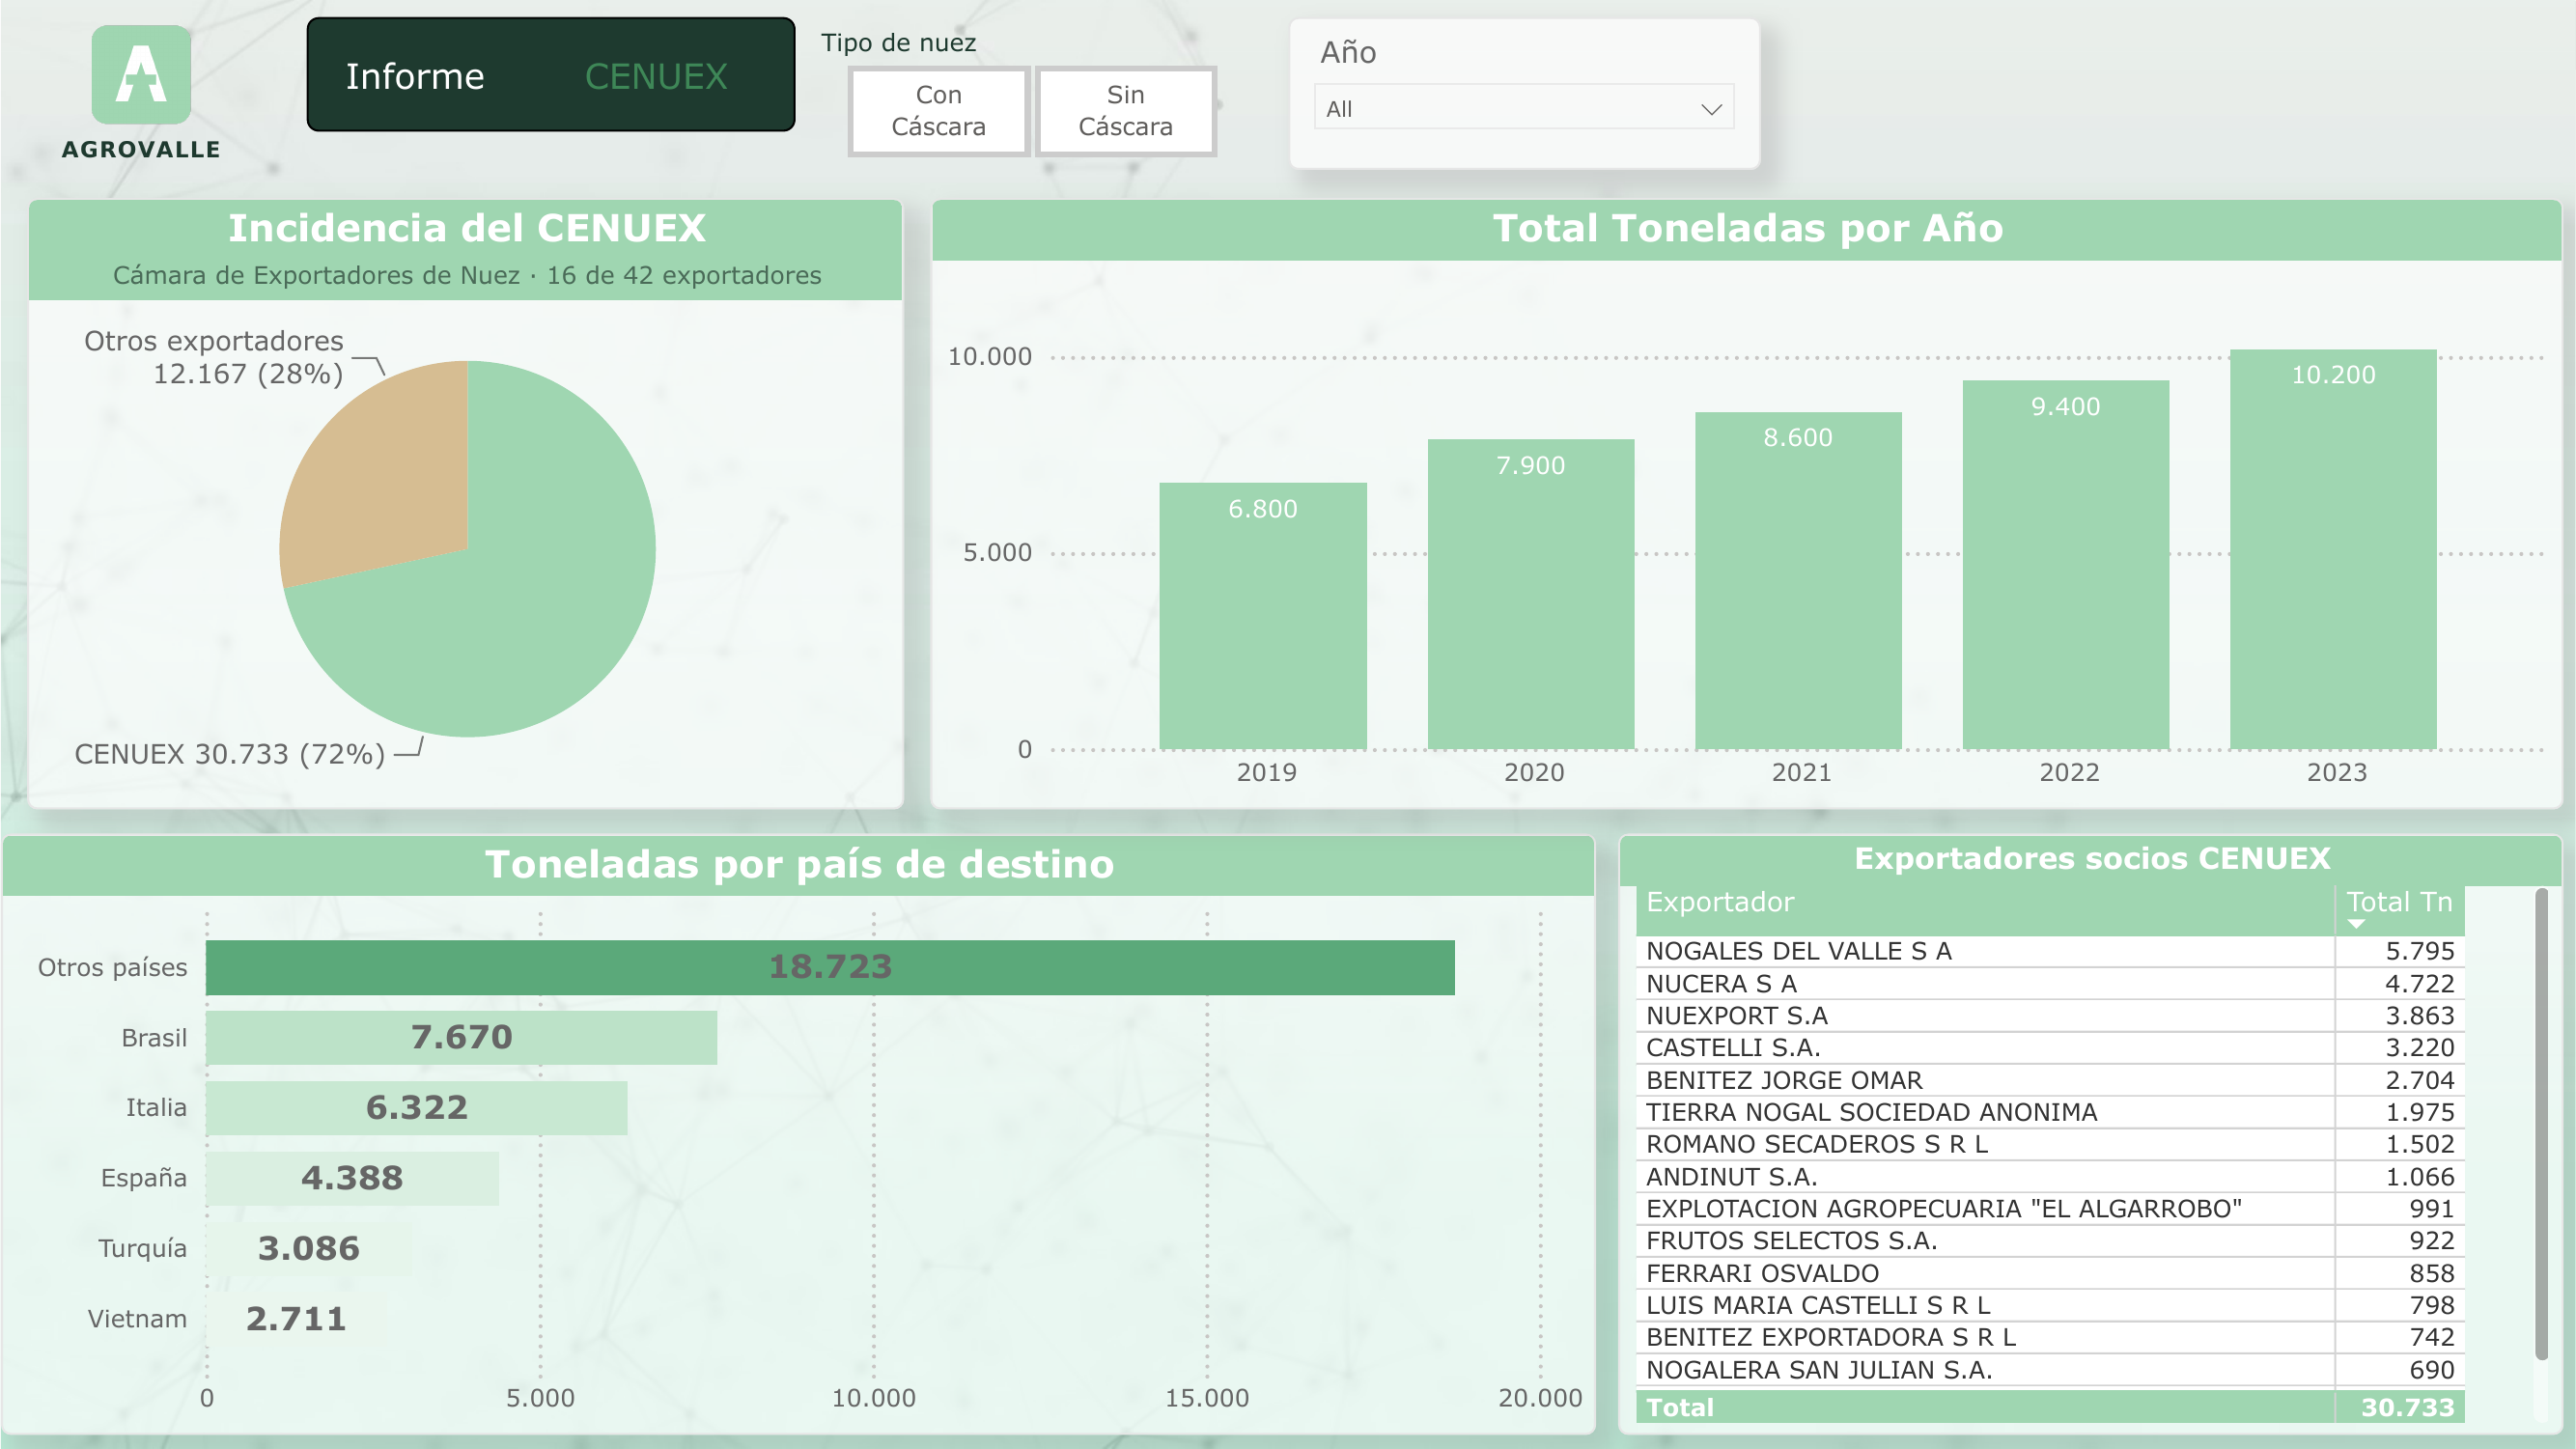

The page's visual inventory and layout, read from the dashboard file:
{"tool":"powerbi","page":{"name":"CENUEX","canvas":[1280,720],"ordinal":2},"visuals":[{"type":"shape","title":"Barra superior","box":[151.9,7.7,242.8,57.1],"z":0},{"type":"actionButton","title":"Actual","box":[151.4,8,110,57.6],"z":1000},{"type":"image","box":[13.3,0,112.9,104.1],"z":2000},{"type":"slicer","fields":{"Values":["DIM Calendario.#Año"]},"box":[640.5,7.7,234.1,76.4],"z":4000},{"type":"slicer","fields":{"Values":["DIM Tipo Nuez.Tipo Nuez"]},"box":[394.7,7.7,234.1,76.4],"z":5000},{"type":"pieChart","title":"Incidencia del CENUEX","fields":{"Category":["DIM Exportadores.CENUEX"],"Y":["Medidas.Total kilos en Tn"]},"box":[13.3,97.5,435.4,304.1],"z":6000},{"type":"barChart","title":"Toneladas por país de destino","fields":{"Category":["TOPN Paises.País de Destino"],"Y":["Medidas.Total Tn TOPN"]},"box":[0,414.1,792.7,298.8],"z":7000},{"type":"columnChart","title":"Total Toneladas por Año","fields":{"Category":["DIM Calendario.#Año"],"Y":["Medidas.Total Tn"]},"box":[462,97.5,812.2,304.1],"z":8000},{"type":"actionButton","title":"Actual","box":[271.3,8,110,57.6],"z":9000},{"type":"tableEx","title":"Exportadores socios CENUEX","fields":{"Values":["DIM Exportadores.Exportador","Medidas.Total Tn"]},"box":[804.2,414.1,470,298.8],"z":10000}]}

Visuals, with their boxes in screenshot pixels (x1, y1, x2, y2), scaled from the page's 1280x720 canvas onto the 2576x1449 screenshot:
"Barra superior" shape: bbox(306, 15, 795, 130)
"Actual" actionButton: bbox(305, 16, 526, 132)
image: bbox(27, 0, 254, 209)
slicer - DIM Calendario.#Año: bbox(1289, 15, 1760, 169)
slicer - DIM Tipo Nuez.Tipo Nuez: bbox(795, 15, 1266, 169)
"Incidencia del CENUEX" pieChart: bbox(27, 196, 903, 808)
"Toneladas por país de destino" barChart: bbox(0, 833, 1595, 1435)
"Total Toneladas por Año" columnChart: bbox(930, 196, 2564, 808)
"Actual" actionButton: bbox(546, 16, 768, 132)
"Exportadores socios CENUEX" tableEx: bbox(1618, 833, 2564, 1435)
